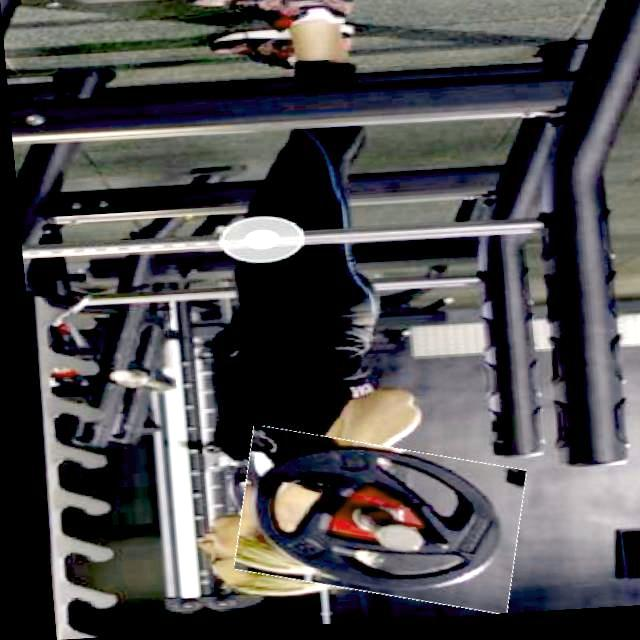barbell: (222, 432, 520, 619)
